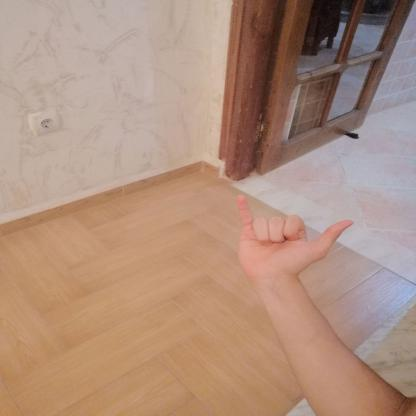YA: (222, 186, 366, 293)
